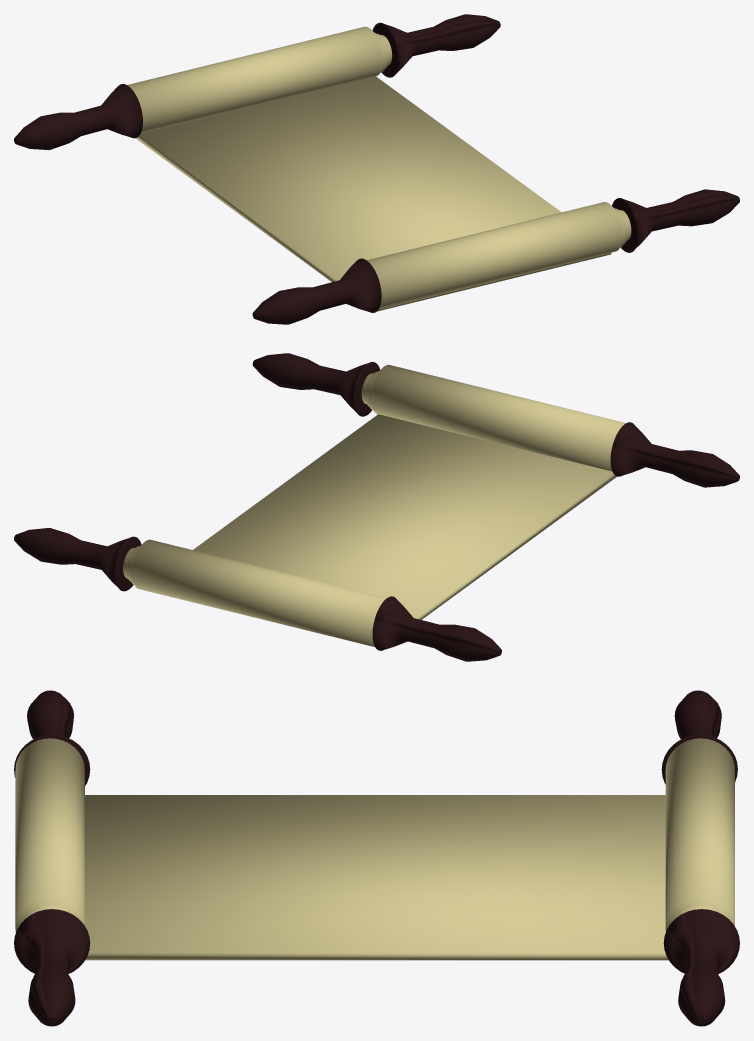
The model's file is scroll_opened.fbx.
3 views of the same model, one above another, from view 1: azimuth 30°, elevation 25°; view 2: azimuth 150°, elevation 25°; view 3: azimuth 270°, elevation 25° (orthographic). The views are drawn at different scales.
Visible parts, largest first — view 1: paper, right, left, handle.003, handle.002, handle.001, handle; view 2: paper, left, right, handle.003, handle.002, handle, handle.001; view 3: paper, right, left, handle.001, handle, handle.003, handle.002.
Boxes of the visible parts, x1,y1,x2,y2 form: paper: [135, 76, 611, 311]; right: [367, 202, 631, 309]; left: [127, 26, 392, 133]; handle.003: [14, 84, 142, 149]; handle.002: [252, 258, 381, 324]; handle.001: [612, 189, 739, 252]; handle: [372, 14, 500, 77]; paper: [193, 414, 617, 619]; left: [123, 539, 386, 646]; right: [361, 364, 625, 471]; handle.003: [372, 596, 501, 661]; handle.002: [610, 422, 739, 487]; handle: [14, 528, 141, 591]; handle.001: [252, 353, 380, 416]; paper: [85, 795, 668, 960]; right: [15, 738, 84, 931]; left: [665, 738, 734, 931]; handle.001: [14, 909, 90, 1026]; handle: [663, 909, 739, 1026]; handle.003: [661, 690, 737, 784]; handle.002: [14, 690, 90, 785].
Bounding box in the file's own units: 2.05 × 0.2157 × 1.96.
